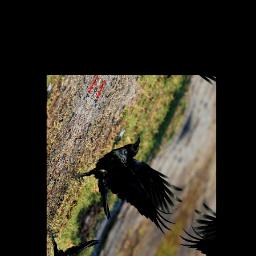Crow: (62, 111, 200, 255)
